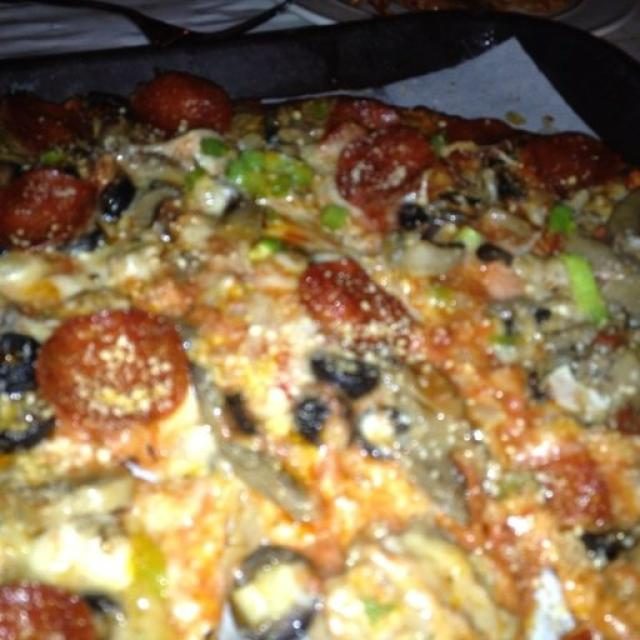Green Pepper: (523, 130, 623, 191), (218, 140, 314, 192), (179, 167, 242, 211), (566, 258, 605, 316), (424, 225, 487, 252), (205, 132, 233, 162), (318, 198, 344, 227), (246, 238, 281, 258), (536, 215, 574, 233)
Pepperoni: (43, 307, 175, 430), (510, 455, 606, 532), (0, 169, 91, 246), (135, 76, 227, 132), (302, 266, 392, 322), (351, 143, 446, 195), (0, 91, 91, 145), (0, 590, 94, 640), (328, 97, 401, 138), (446, 119, 505, 146)
Pizza: (0, 74, 640, 640)
